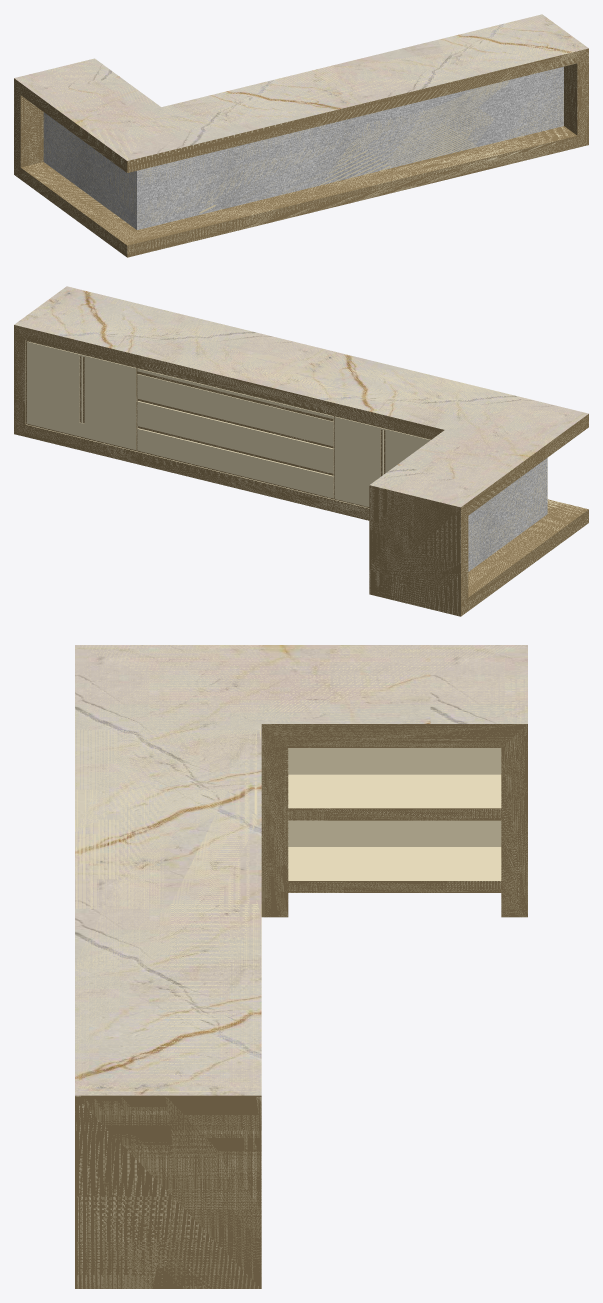
File: counter.dae
3 views of the same model, one above another, from view 1: azimuth 30°, elevation 25°; view 2: azimuth 150°, elevation 25°; view 3: azimuth 270°, elevation 25° (orthographic). The views are drawn at different scales.
Visible parts, largest first — view 1: Component_1 (×3); view 2: Component_1 (×11); view 3: Component_1 (×4).
Part boxes in pixels (bbox=[...]): Component_1 (×3): bbox=[14, 14, 588, 257]; Component_1 (×11): bbox=[14, 286, 588, 616]; Component_1 (×4): bbox=[75, 645, 527, 1288].
Size of the model in its own units: 157 by 66.93 by 31.5.
